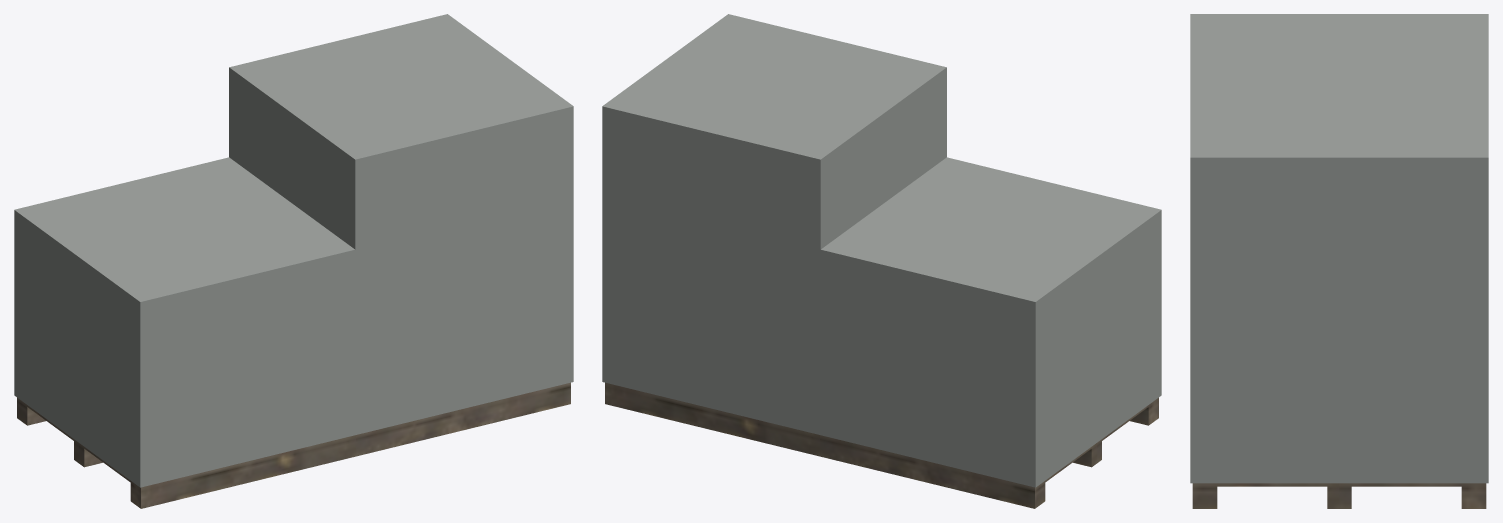
File: town_crate_stack.gltf
3 views of the same model, side by side, from view 1: azimuth 30°, elevation 25°; view 2: azimuth 150°, elevation 25°; view 3: azimuth 270°, elevation 25° (orthographic). The views are drawn at different scales.
Parts seen in each view (by area): view 1: TownCrateStack_Wrap, TownCrateStack_Pallets; view 2: TownCrateStack_Wrap, TownCrateStack_Pallets; view 3: TownCrateStack_Wrap, TownCrateStack_Pallets.
Part boxes in pixels (box(x1,y1,x2,y2)): TownCrateStack_Wrap: box(14, 14, 573, 487); TownCrateStack_Pallets: box(17, 382, 570, 508); TownCrateStack_Wrap: box(602, 14, 1161, 487); TownCrateStack_Pallets: box(605, 382, 1158, 508); TownCrateStack_Wrap: box(1190, 14, 1488, 483); TownCrateStack_Pallets: box(1192, 483, 1486, 508).
Size of what is drawn, in the model's own units: 2.42 by 1.59 by 1.22.
Materials: 1 (1 with a texture image).
